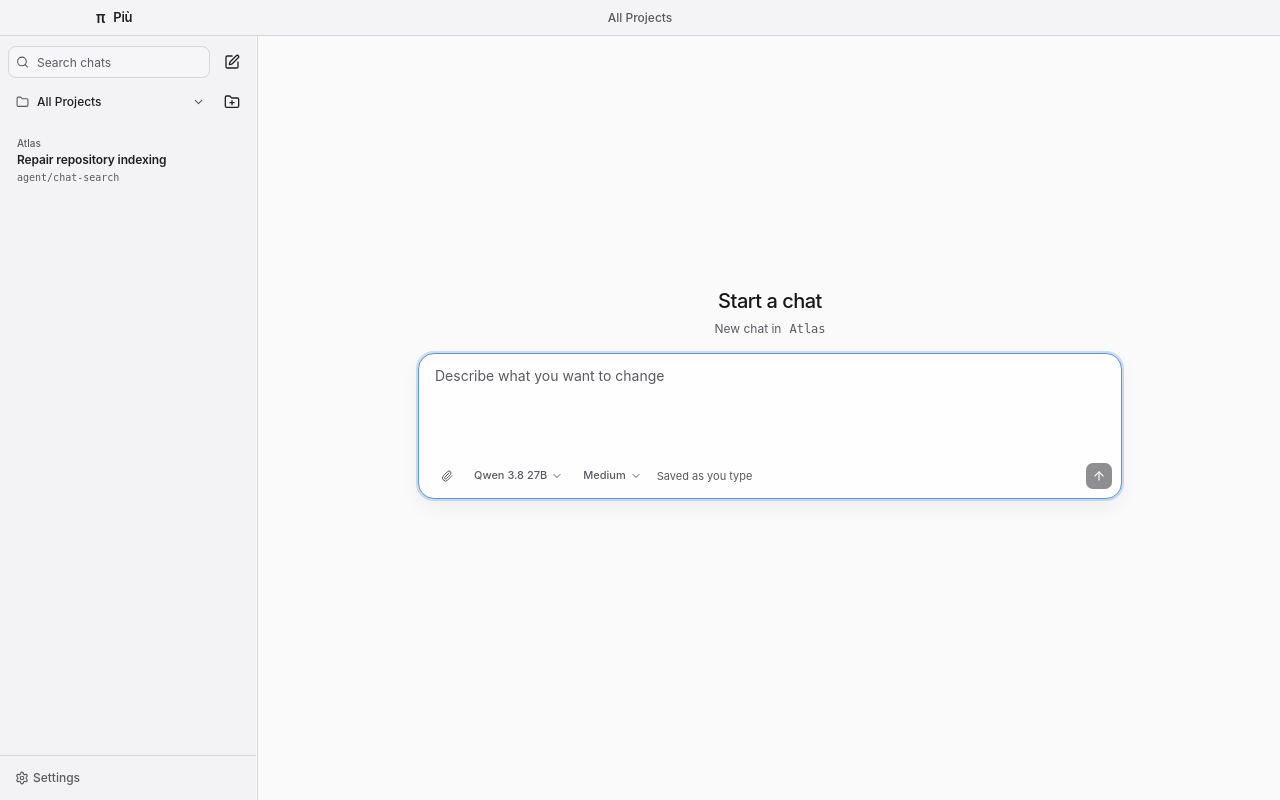
Test: selecting a search result opens that chat and clears the query
Step 1. Type "indexing" into the search field labelled "Search chats" → (109, 62), box [8,46,210,78]
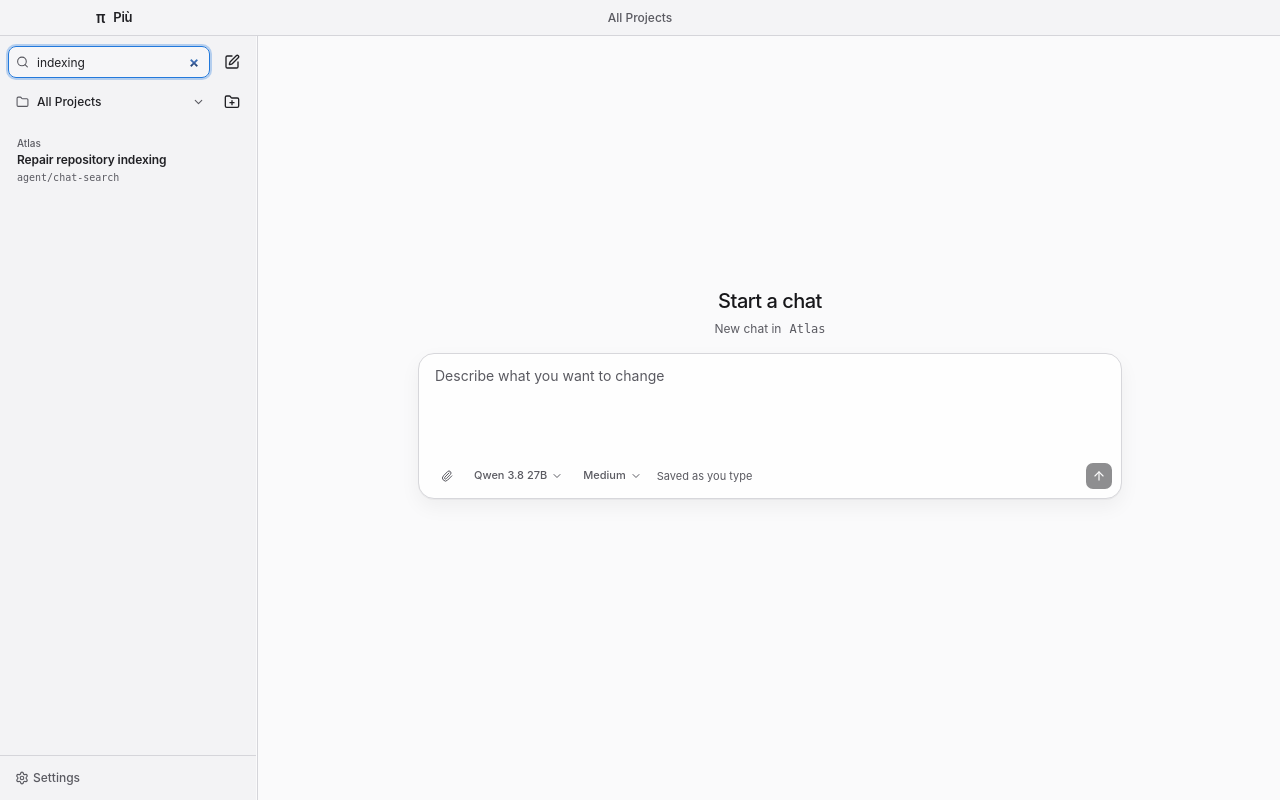
Step 2. Click the button "Atlas Repair repository indexing agent/chat-search" → click(128, 161), box [8,130,248,192]
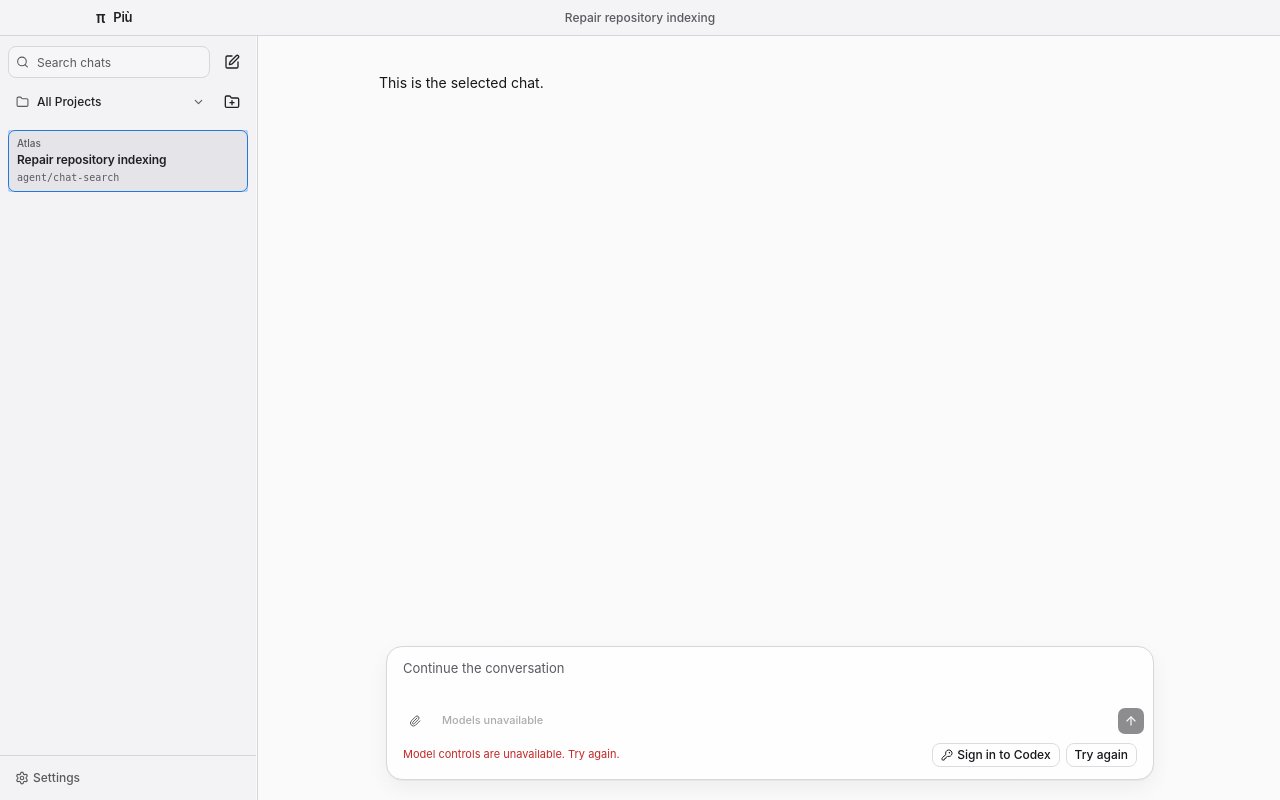
Expected: the search field labelled "Search chats" is empty, [8,46,210,78]
Expected: the text "This is the selected chat." is shown, [378,74,543,91]
Expected: the text "Repair repository indexing" next to "Più" is shown, [565,10,715,24]
